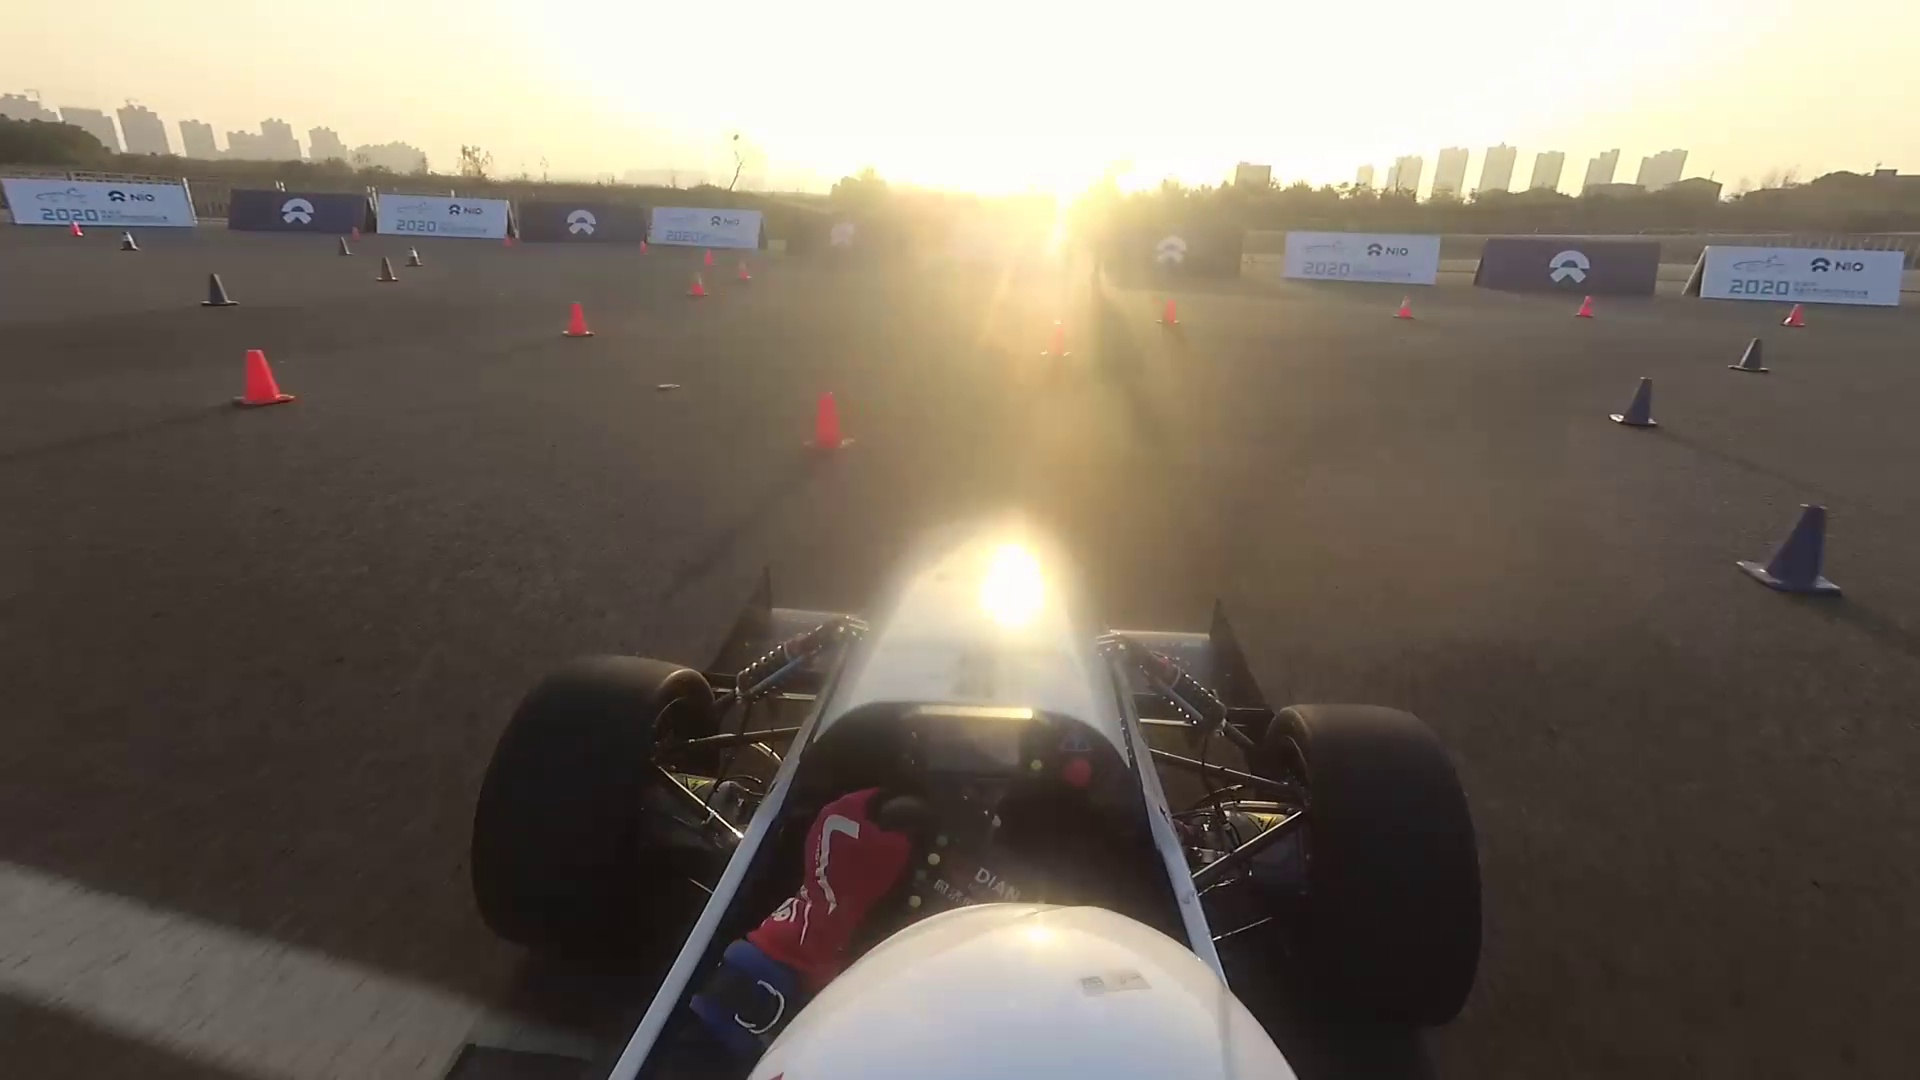blue_cone: (1742, 501, 1836, 596), (1606, 367, 1665, 433), (1731, 338, 1763, 371), (371, 256, 404, 284), (203, 274, 229, 306), (405, 245, 423, 272), (338, 233, 353, 258), (120, 233, 137, 252)
red_cone: (800, 390, 851, 452), (233, 349, 289, 405), (562, 301, 592, 336), (1044, 330, 1068, 360), (1159, 297, 1182, 328), (1393, 295, 1418, 319), (687, 276, 709, 301), (1575, 295, 1594, 320), (1784, 303, 1803, 328), (738, 261, 753, 281), (71, 222, 84, 241), (703, 251, 715, 266), (640, 241, 647, 251)
